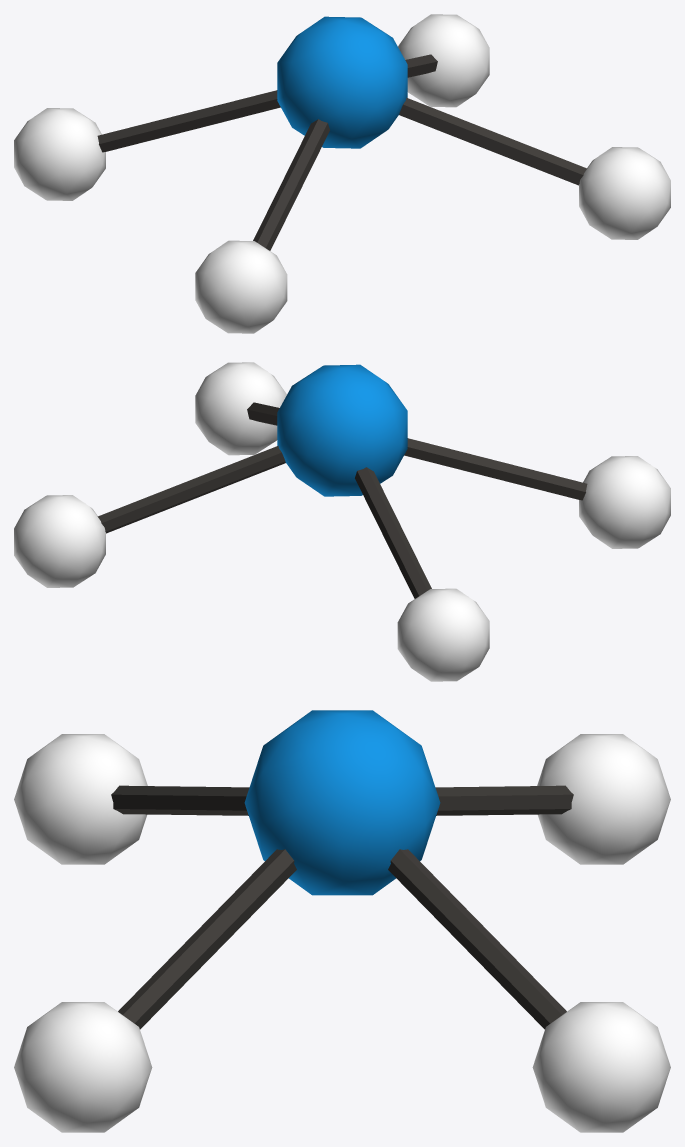
File: D5_network_behaviour_analysis.glb
3 renders of one model, top to bottom at view 1: azimuth 30°, elevation 25°; view 2: azimuth 150°, elevation 25°; view 3: azimuth 270°, elevation 25°, orthographic. The views are drawn at different scales.
Parts seen in each view (by area): view 1: node_white, observation_blue, beam_ink; view 2: node_white, observation_blue, beam_ink; view 3: node_white, observation_blue, beam_ink.
Part boxes in pixels (left/top/right/bottom): node_white: left=14, top=14, right=670, bottom=333; observation_blue: left=277, top=16, right=407, bottom=148; beam_ink: left=97, top=54, right=587, bottom=250; node_white: left=14, top=362, right=670, bottom=681; observation_blue: left=277, top=364, right=407, bottom=496; beam_ink: left=97, top=402, right=587, bottom=598; node_white: left=14, top=734, right=670, bottom=1132; observation_blue: left=244, top=710, right=440, bottom=895; beam_ink: left=111, top=785, right=573, bottom=1029.
Bounding box in the file's own units: 1.34 × 0.54 × 1.14.
